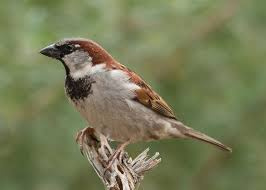hsparrow: (37, 34, 243, 163)
